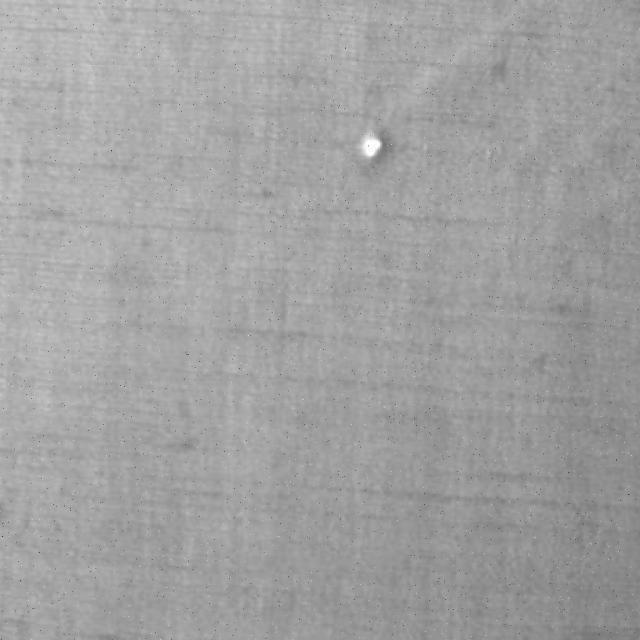seam: (316, 88, 420, 210)
